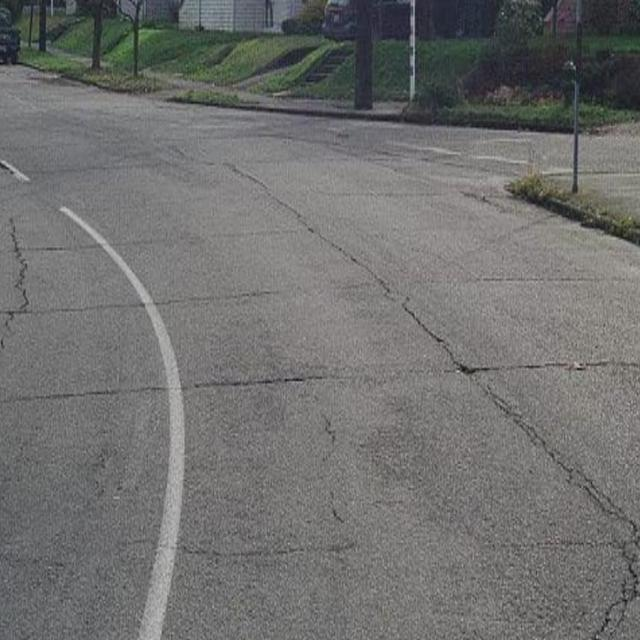Melintang: (0, 345, 640, 410)
Memanjang: (206, 151, 640, 556)
